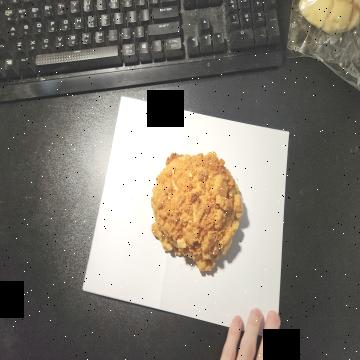soboru_bread: (152, 146, 243, 280)
